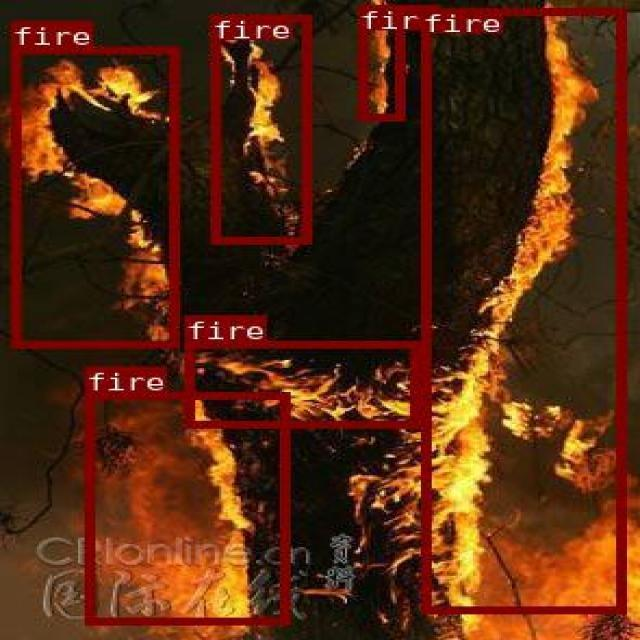fire: (421, 7, 623, 611), (11, 45, 178, 347), (84, 392, 287, 623), (209, 15, 309, 243), (183, 340, 417, 426), (356, 4, 403, 120)
